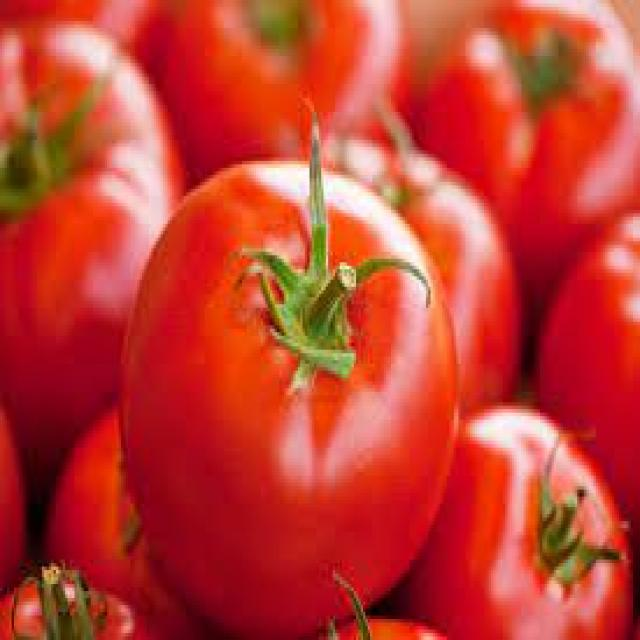tomato: (114, 147, 454, 634), (0, 23, 189, 481), (391, 406, 633, 640), (412, 0, 640, 234), (379, 105, 526, 413), (46, 409, 195, 640)
